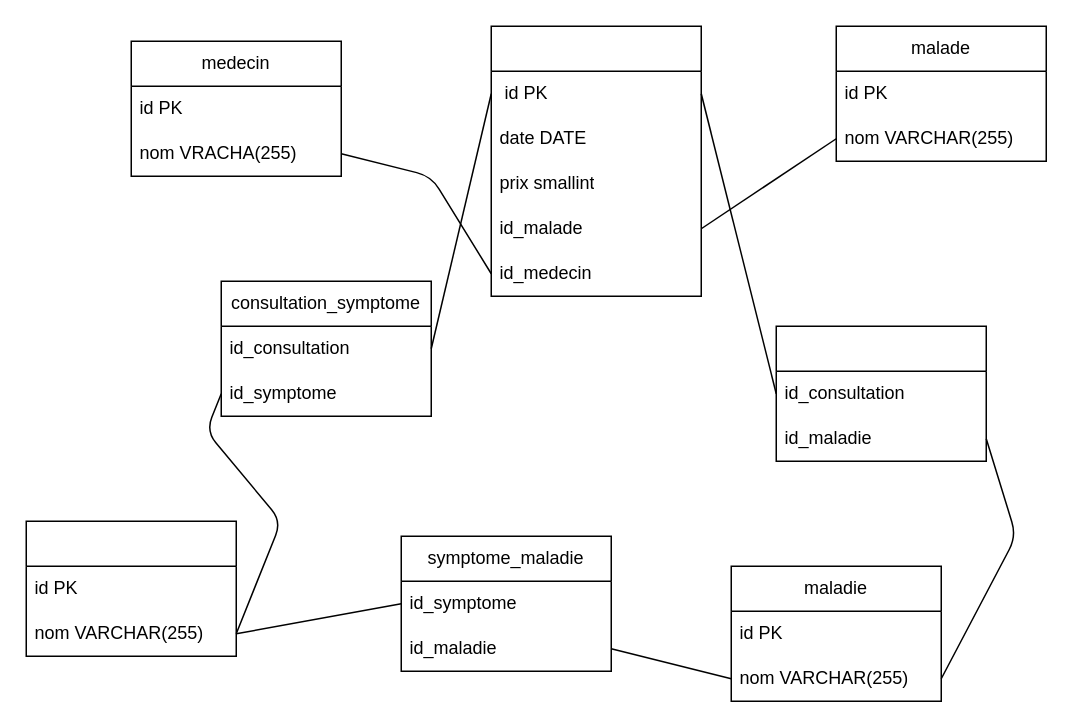
This 1073x728 diagram has some shape labels left out. Each missing label, with the box of its shape:
consultation: (490, 25, 701, 296)
consultation_maladie: (775, 325, 986, 461)
symptome: (25, 520, 236, 656)
